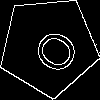O: (23, 21, 81, 78)
